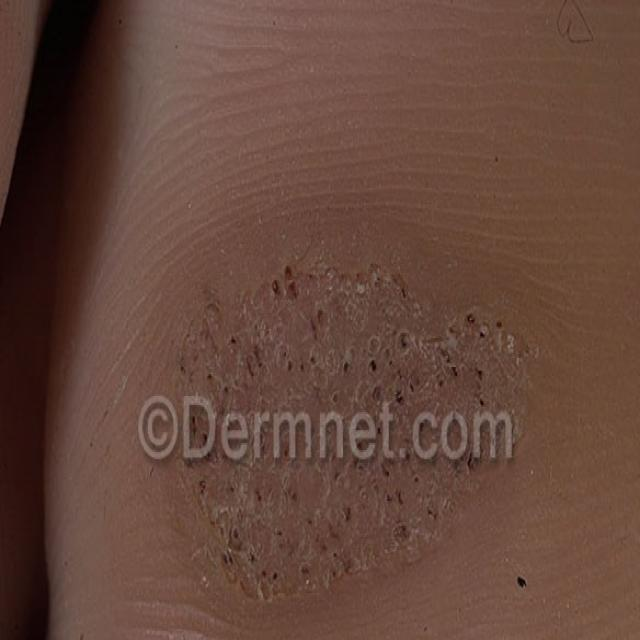Warts: (156, 228, 542, 640)
